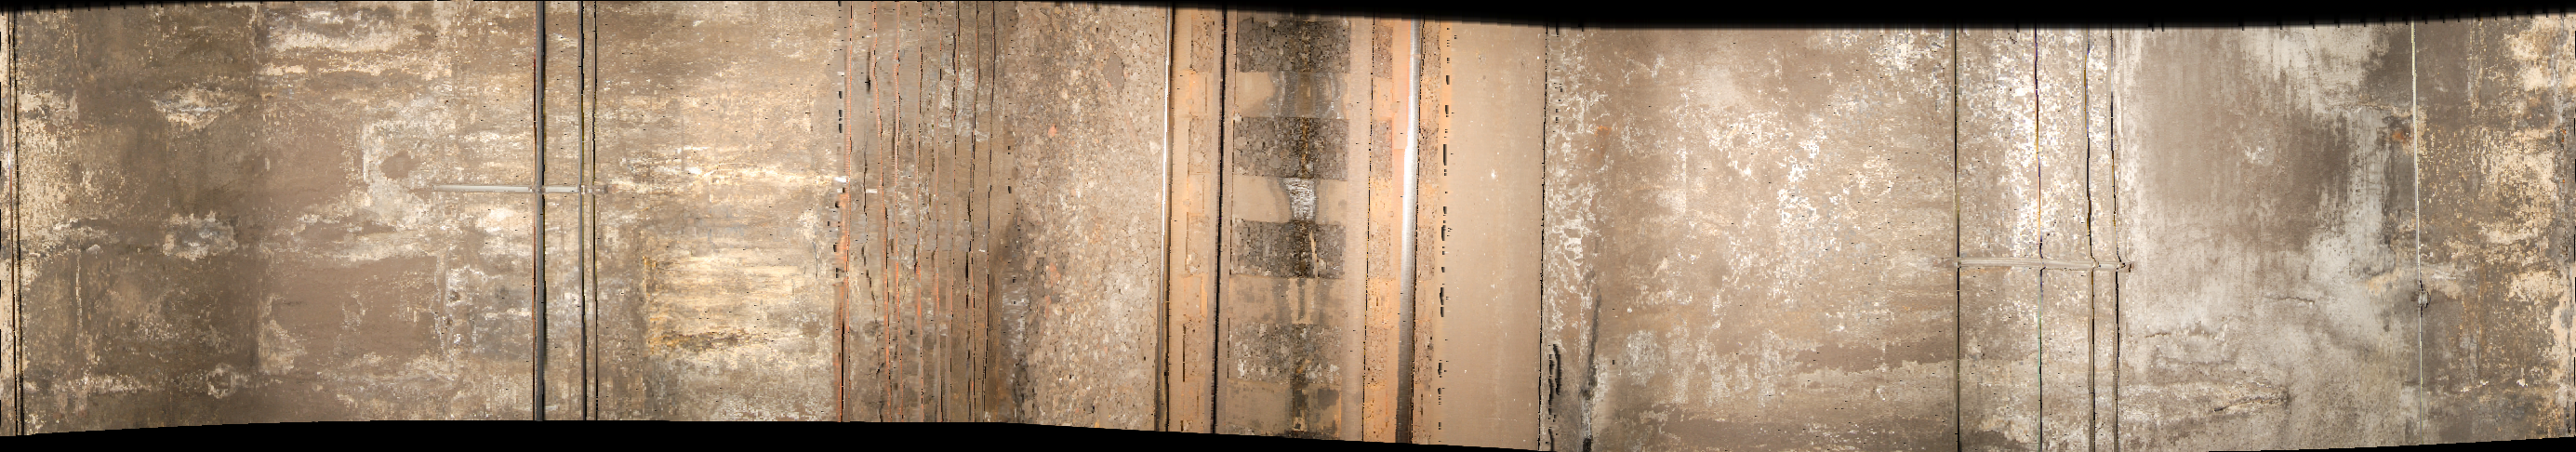pipes: (839, 3, 1019, 452), (2022, 36, 2123, 452), (527, 2, 608, 436), (1940, 28, 1983, 450)
tracks: (1158, 12, 1449, 452)
